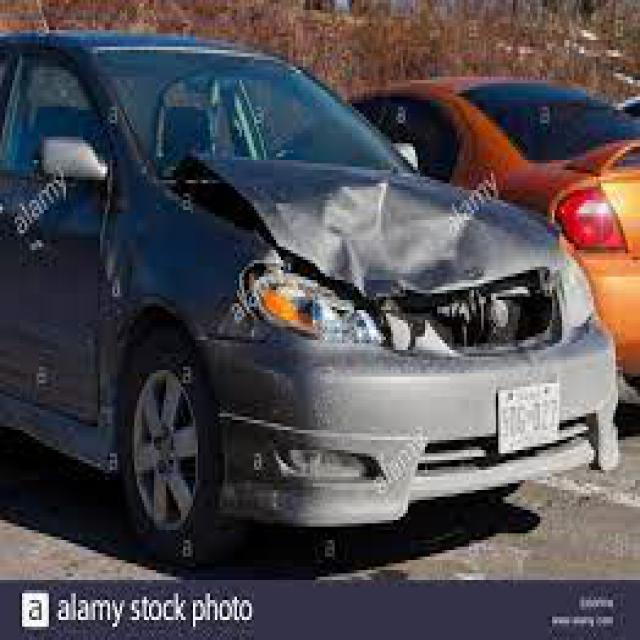bonnet-dent: (183, 170, 572, 296)
